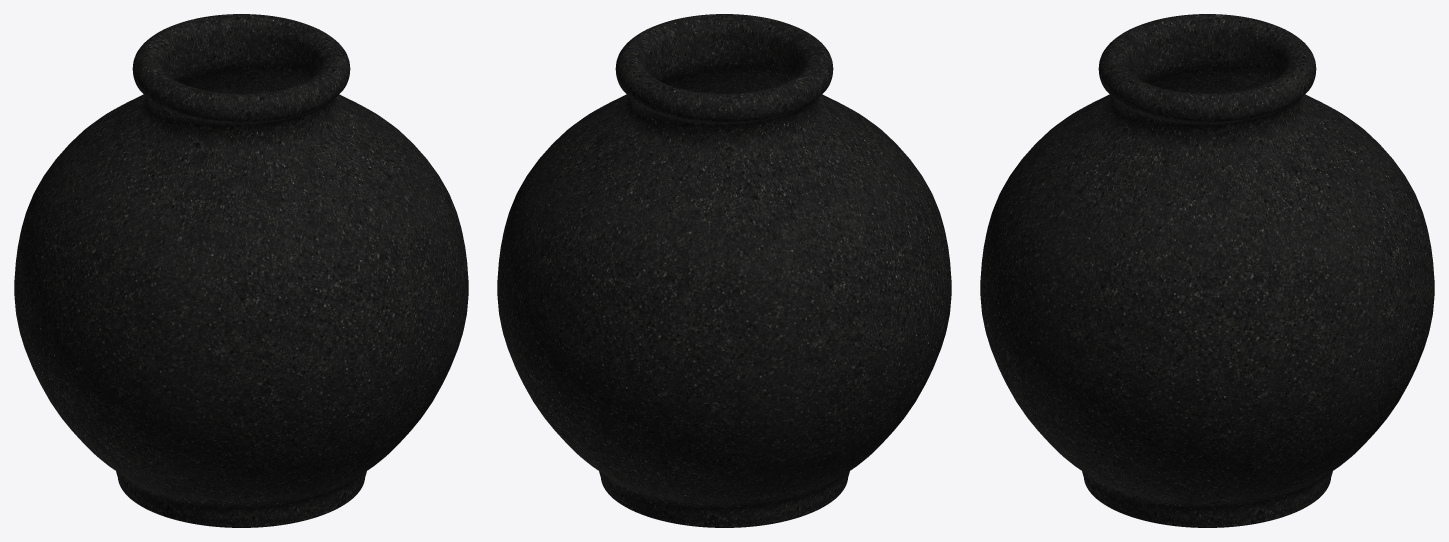
Rendered from boop-vase-large-black.glb.
3 views of the same model, side by side, from view 1: azimuth 30°, elevation 25°; view 2: azimuth 150°, elevation 25°; view 3: azimuth 270°, elevation 25° (orthographic).
Parts seen in each view (by area): view 1: vase-large-black; view 2: vase-large-black; view 3: vase-large-black.
Part boxes in pixels (<box>): vase-large-black: <box>14,14,468,527</box>; vase-large-black: <box>497,14,951,527</box>; vase-large-black: <box>980,14,1434,527</box>.
Bounding box in the file's own units: 0.0322 × 0.033 × 0.0322.
1 material, 1 textured.
